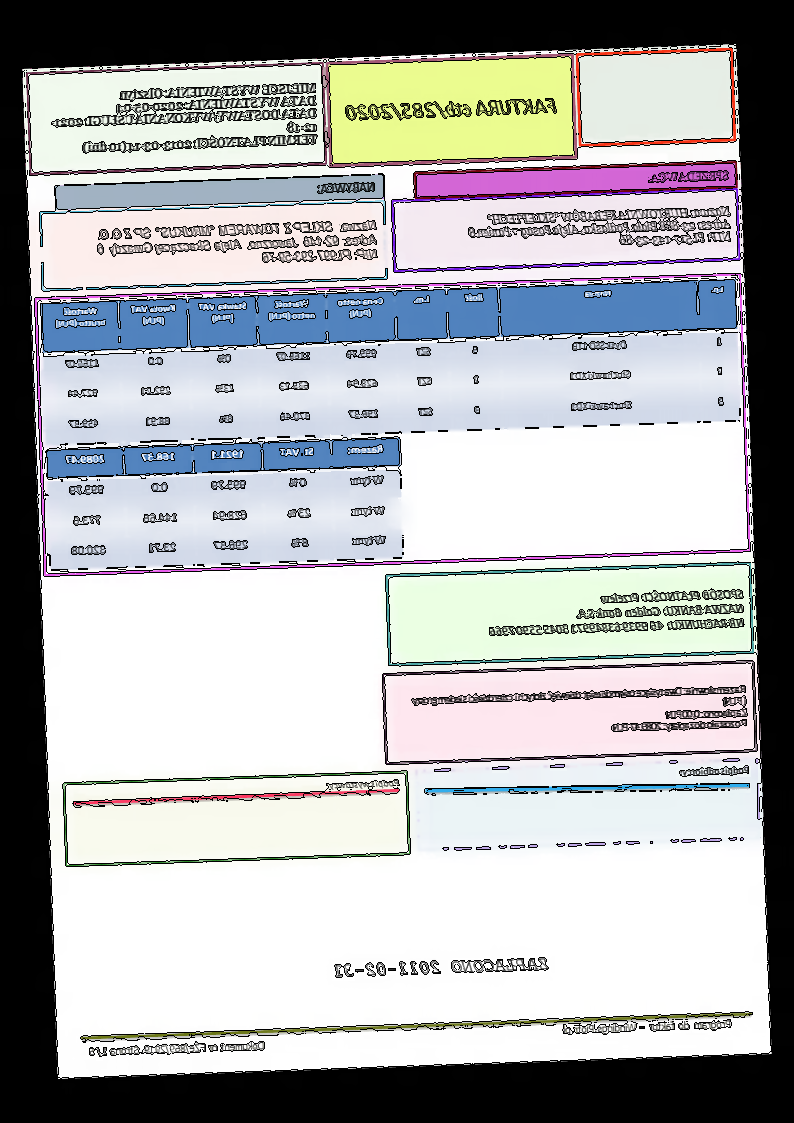Table: (41, 278, 742, 446), (45, 436, 406, 571)
TextBox: (48, 81, 319, 156), (410, 682, 750, 741), (94, 217, 379, 272), (486, 586, 746, 639), (469, 204, 734, 253), (344, 93, 559, 125), (332, 956, 550, 981), (88, 1037, 267, 1063), (562, 1018, 734, 1038), (645, 168, 731, 186), (675, 764, 753, 780), (325, 778, 401, 792), (316, 180, 377, 197)
